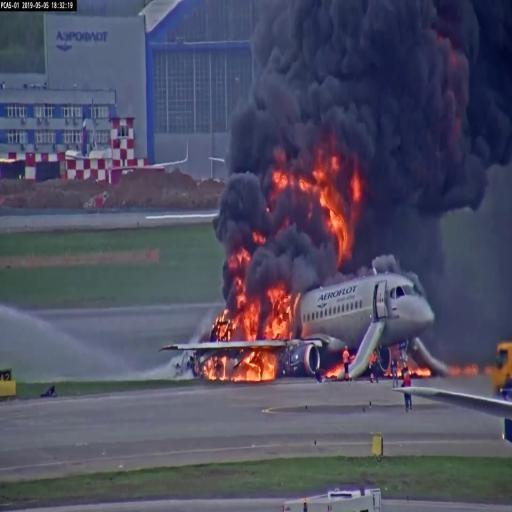fire: (242, 290, 297, 336), (243, 353, 284, 382)
smoke: (263, 4, 508, 147), (218, 182, 255, 295)
